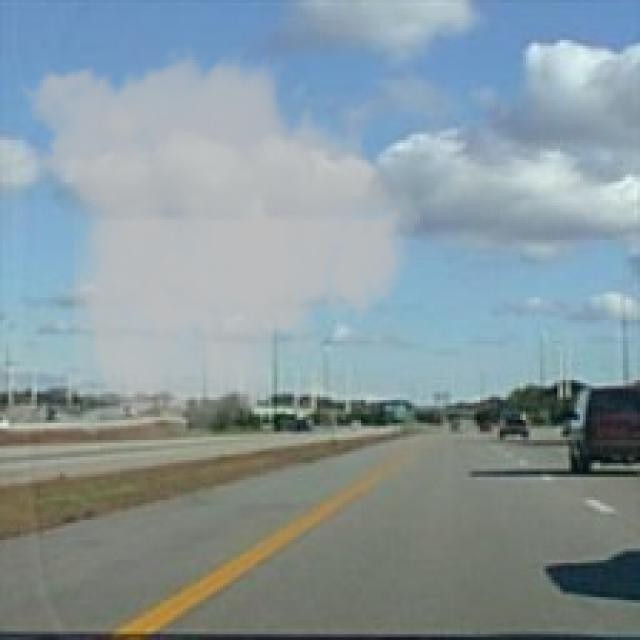Smoke: (8, 40, 434, 449)
